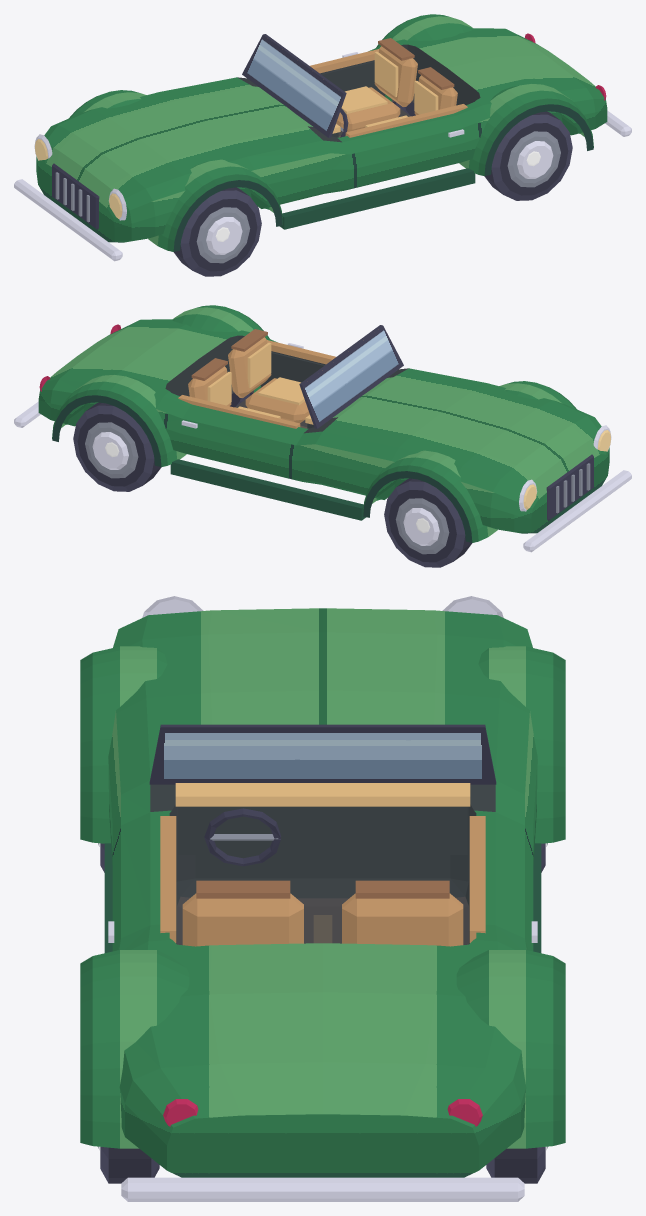
3 views of the same model, one above another, from view 1: azimuth 30°, elevation 25°; view 2: azimuth 150°, elevation 25°; view 3: azimuth 270°, elevation 25° (orthographic). The views are drawn at different scales.
Parts seen in each view (by area): view 1: Body_static, Wheel_FL_tire_hub, Wheel_RL_tire_hub; view 2: Body_static, Wheel_FR_tire_hub, Wheel_RR_tire_hub; view 3: Body_static, Wheel_RL_tire_hub, Wheel_RR_tire_hub.
Boxes of the visible parts, x1,y1,x2,y2 form: Body_static: [14, 14, 631, 261]; Wheel_FL_tire_hub: [173, 187, 261, 276]; Wheel_RL_tire_hub: [484, 111, 572, 200]; Body_static: [14, 305, 631, 552]; Wheel_FR_tire_hub: [384, 478, 472, 567]; Wheel_RR_tire_hub: [73, 402, 161, 491]; Body_static: [80, 596, 565, 1201]; Wheel_RL_tire_hub: [98, 1146, 159, 1183]; Wheel_RR_tire_hub: [486, 1146, 547, 1183].
Bounding box in the file's own units: 84.43 × 21.65 × 34.09.
Materials: 1 (1 with a texture image).
